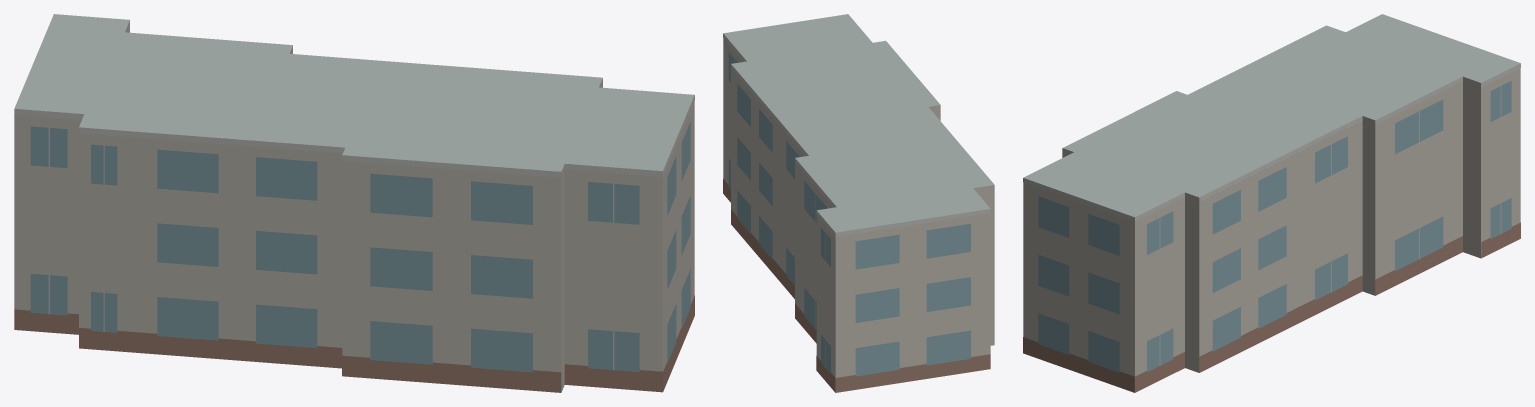
File: survey-upis-32972658.glb
3 renders of one model, left to right at view 1: azimuth 30°, elevation 25°; view 2: azimuth 150°, elevation 25°; view 3: azimuth 270°, elevation 25°, orthographic. The views are drawn at different scales.
Visible parts, largest first — view 1: survey-upis-32972658.tmp; view 2: survey-upis-32972658.tmp; view 3: survey-upis-32972658.tmp.
Part boxes in pixels (x1=…): survey-upis-32972658.tmp: x1=14, y1=14, x2=694, y2=392; survey-upis-32972658.tmp: x1=723, y1=14, x2=994, y2=392; survey-upis-32972658.tmp: x1=1023, y1=14, x2=1520, y2=392.
Size of the model in its own units: 22.74 by 9.15 by 23.51.
